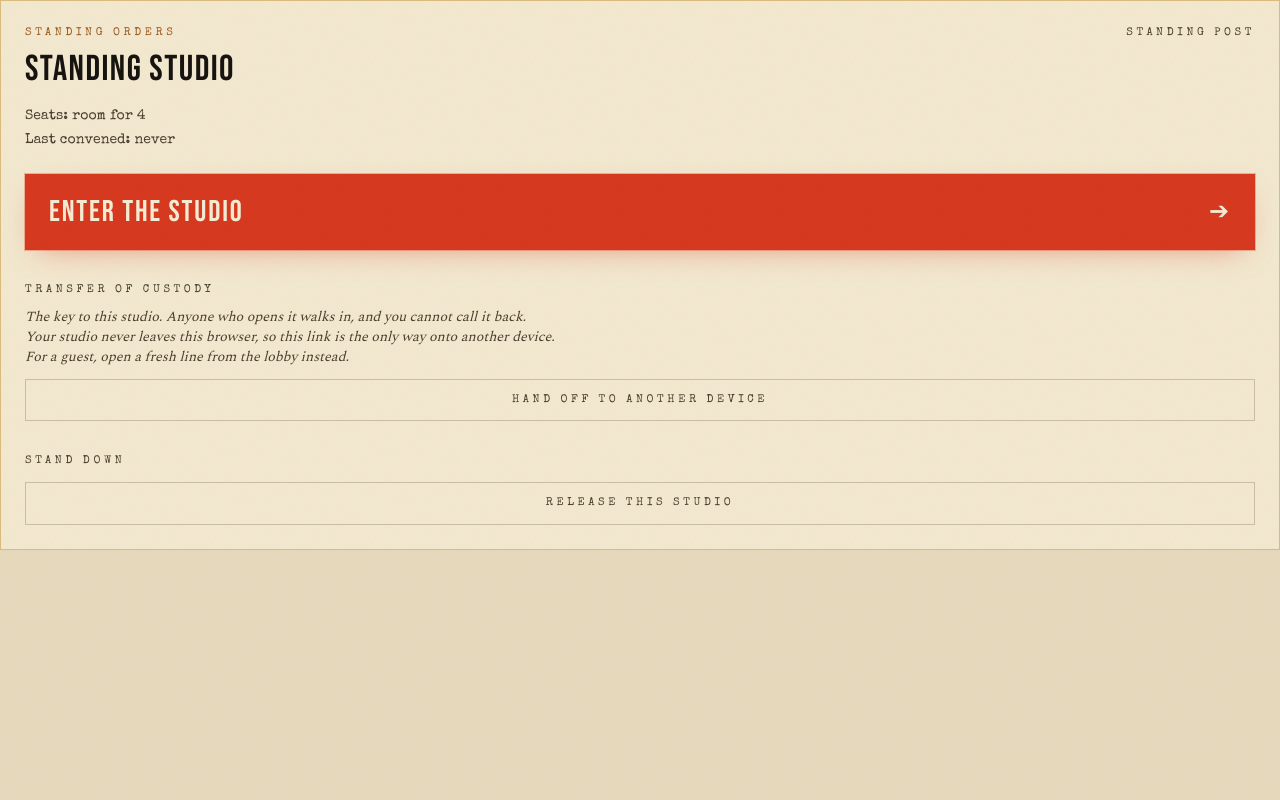
Test case: a blocked clipboard swaps the button label to a visible failure state, not a silent no-op
Click the button "Hand off to another device" at (640, 400), box [25, 379, 1255, 421]
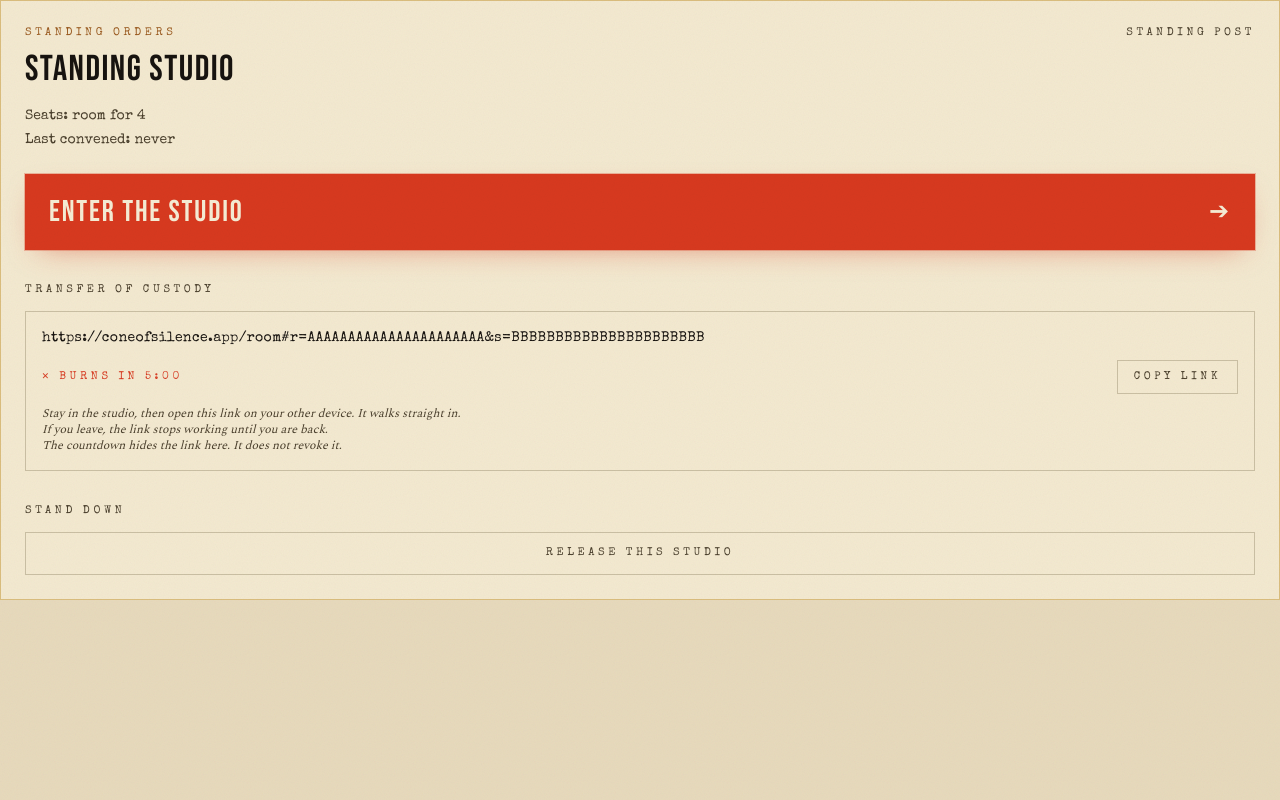
Expected: the text "✕ burns in 5:00" is shown, [42, 369, 183, 385]
Click the button "Copy link" at (1177, 377), box [1117, 360, 1238, 394]
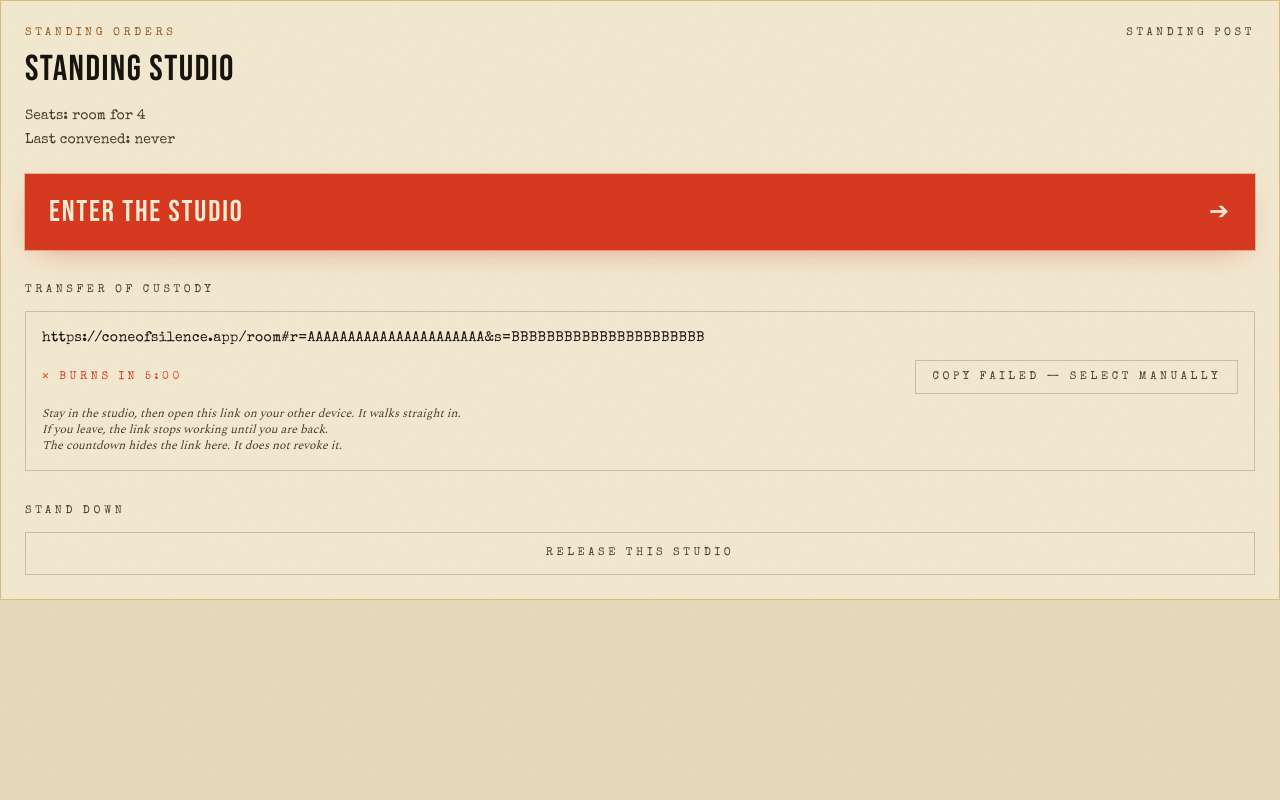
Expected: the button "COPY FAILED — SELECT MANUALLY" is shown, [916, 360, 1238, 394]
Expected: the button "Copy link" is gone
